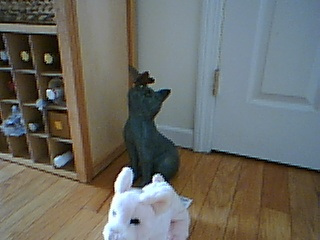piggy: (101, 165, 192, 240)
